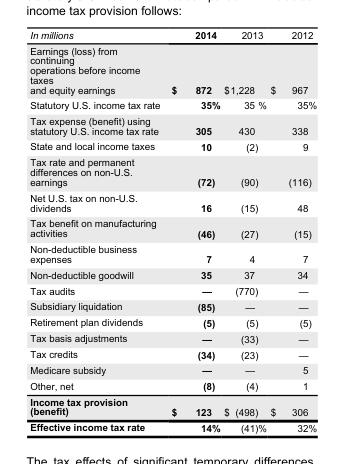table: (29, 28, 316, 432)
table column: (29, 28, 165, 432), (165, 28, 221, 432), (267, 28, 316, 432), (221, 28, 267, 432)
table column header: (29, 28, 316, 42)
table row: (29, 42, 316, 96), (29, 154, 316, 189), (29, 112, 316, 138), (29, 189, 316, 215), (29, 240, 316, 266), (29, 393, 316, 419), (29, 215, 316, 240), (29, 96, 316, 112), (29, 138, 316, 154), (29, 266, 316, 282), (29, 282, 316, 298), (29, 298, 316, 314), (29, 314, 316, 330), (29, 345, 316, 361), (29, 361, 316, 377), (29, 377, 316, 393), (29, 330, 316, 345), (29, 28, 316, 42), (29, 419, 316, 432)
